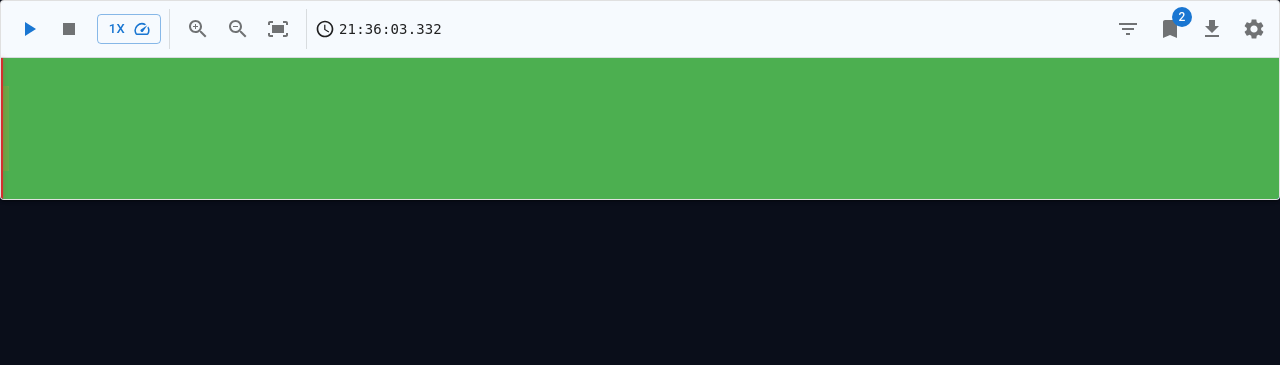
Timeline Component › Playback Controls › speed button opens speed menu
Click the button "1x".
click(129, 29)  # box [97,14,161,44]
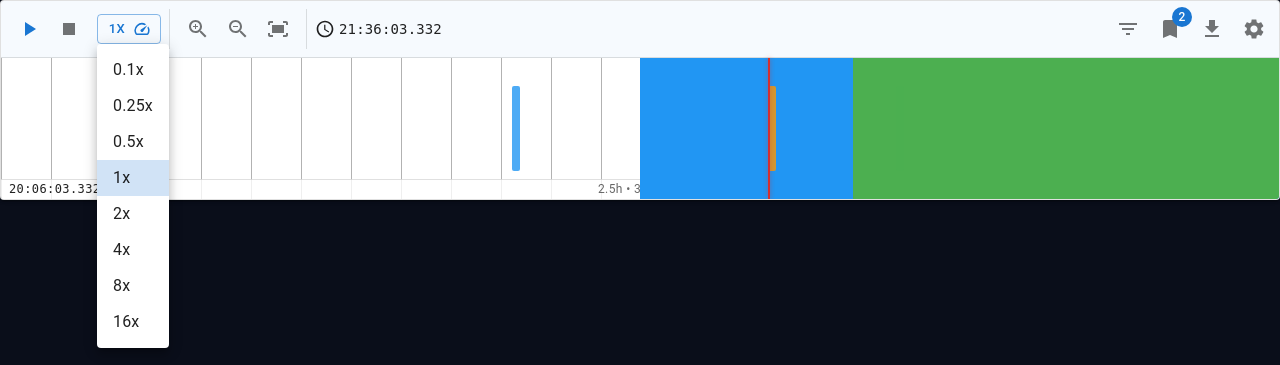
Expected: the menu item "2x" is shown, [113,204,130,223]
